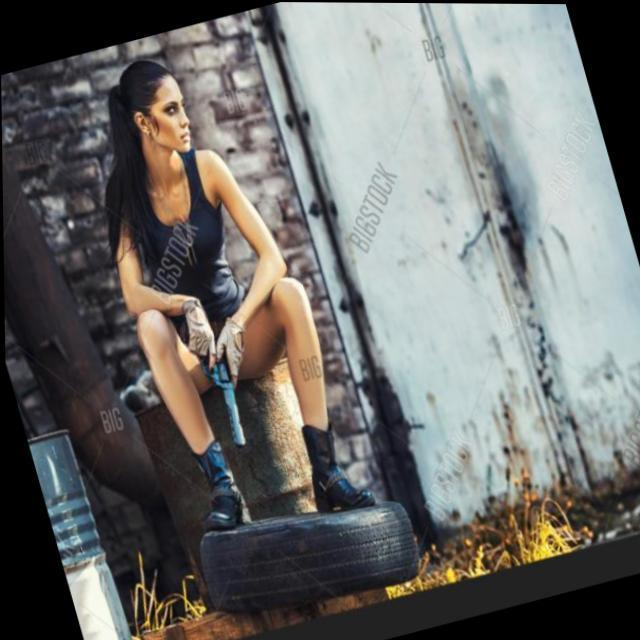weapon: (200, 337, 260, 451)
